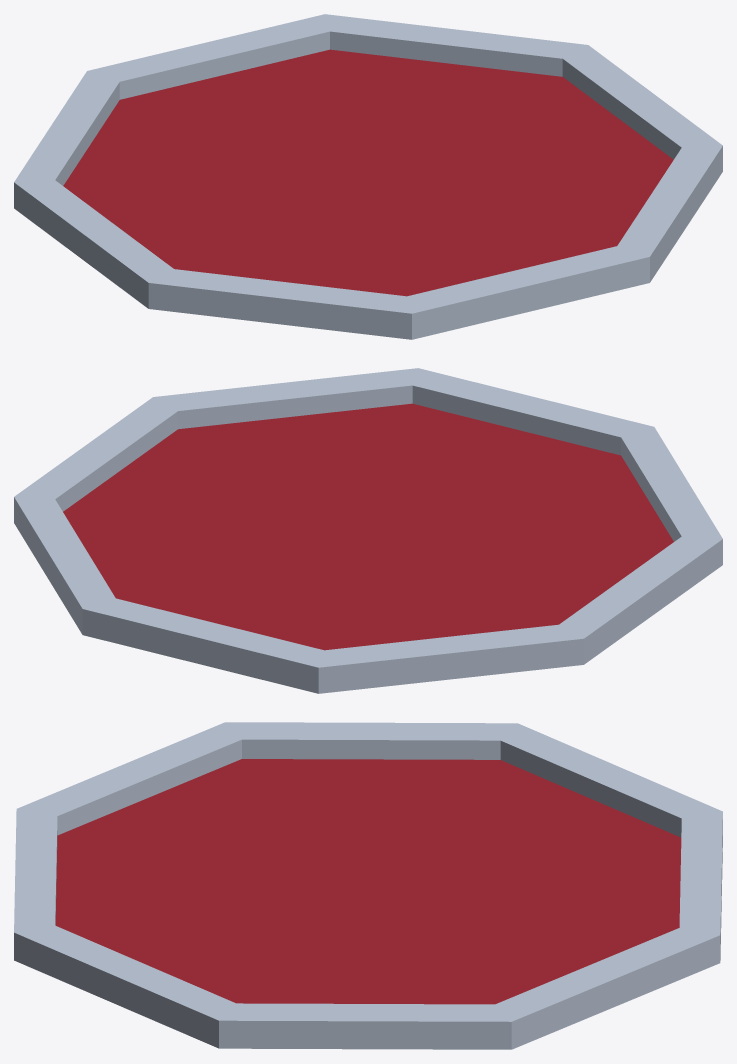
File: base_space_red.fbx
3 views of the same model, one above another, from view 1: azimuth 30°, elevation 25°; view 2: azimuth 150°, elevation 25°; view 3: azimuth 270°, elevation 25° (orthographic). The views are drawn at different scales.
Parts seen in each view (by area): view 1: basic_space_red_1x1; view 2: basic_space_red_1x1; view 3: basic_space_red_1x1.
Boxes of the visible parts, x1,y1,x2,y2 form: basic_space_red_1x1: [14, 14, 722, 339]; basic_space_red_1x1: [14, 368, 722, 693]; basic_space_red_1x1: [14, 722, 722, 1049].
Bounding box in the file's own units: 115 × 5 × 115.
